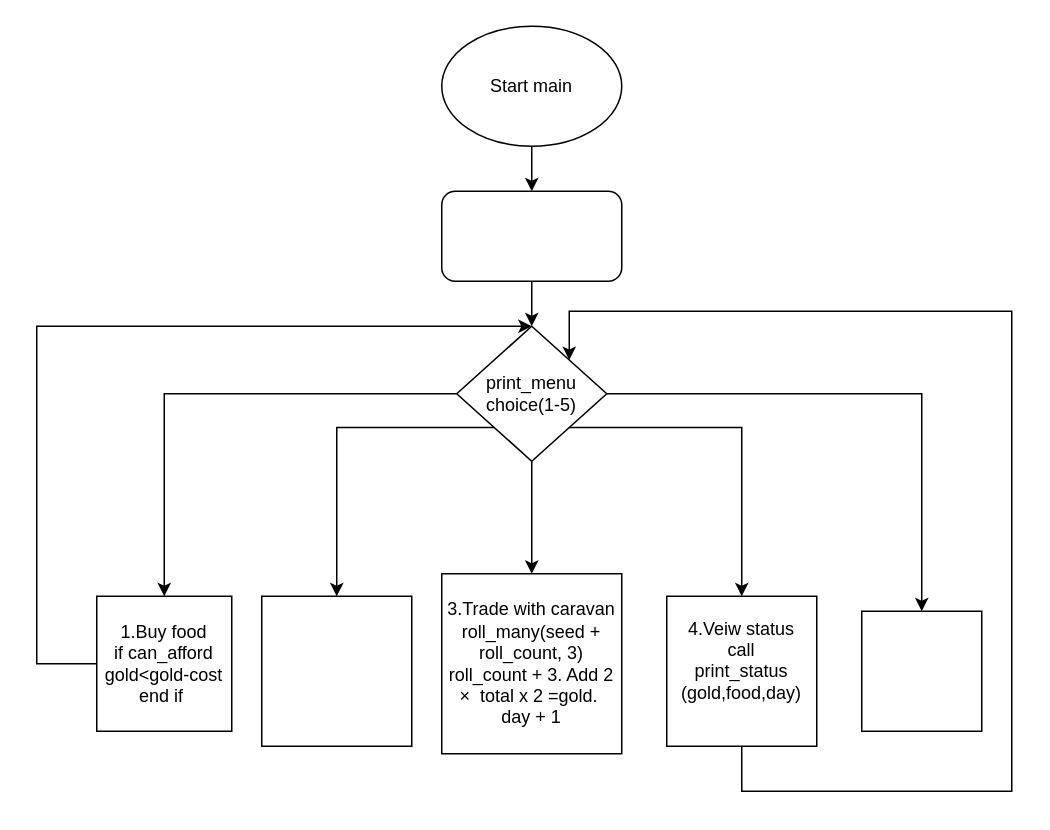
The diagram is 1050 pixels wide and 830 high, and some of its shapes have lost their labels. The shapes that lost their labels are listed below. From the top down, each one's centre as x and y in pixels, then its label:
(531,235): initialize gold = 100, food = 0, day = 1, roll_count = 0
(336,670): 2.Hunt roll_die(seed +roll_count) roll_count +1 hunt_food+ food day + 1
(921,670): 5.Quit print final status end program
